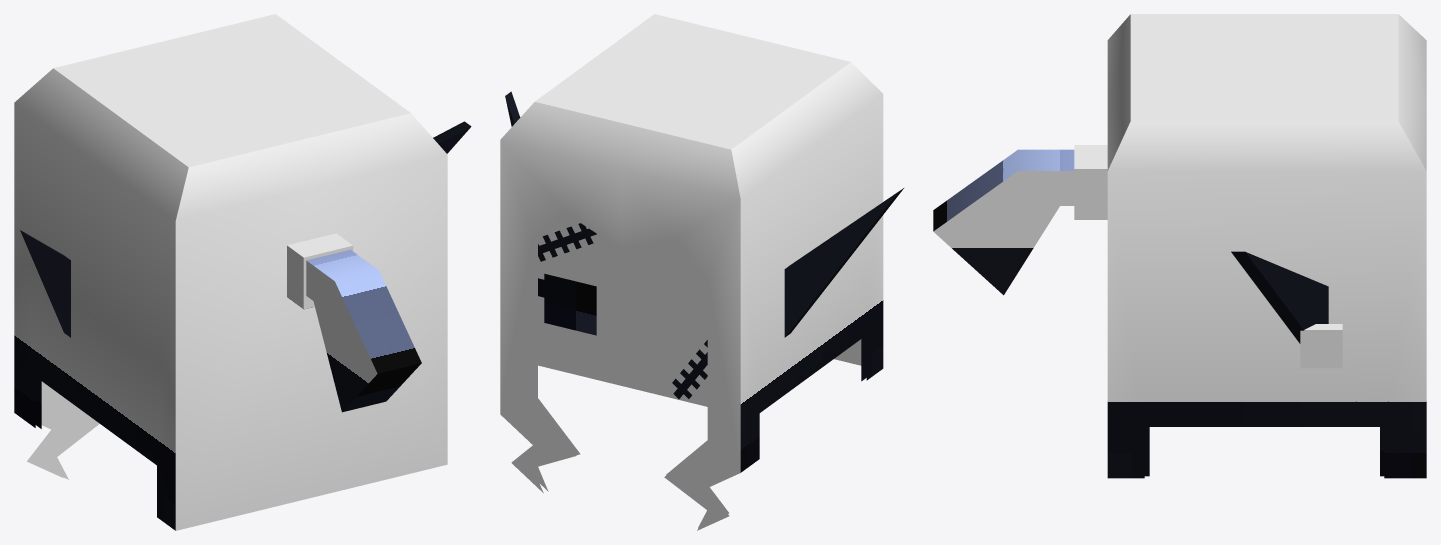
File: earl_head.glb
3 views of the same model, side by side, from view 1: azimuth 30°, elevation 25°; view 2: azimuth 150°, elevation 25°; view 3: azimuth 270°, elevation 25° (orthographic). The views are drawn at different scales.
Parts seen in each view (by area): view 1: earl_head; view 2: earl_head; view 3: earl_head.
Part boxes in pixels (x1=…): earl_head: x1=14, y1=14, x2=471, y2=530; earl_head: x1=500, y1=14, x2=903, y2=530; earl_head: x1=933, y1=14, x2=1426, y2=478.
Bounding box in the file's own units: 8.06 × 7.39 × 7.84.
1 material, 1 textured.
